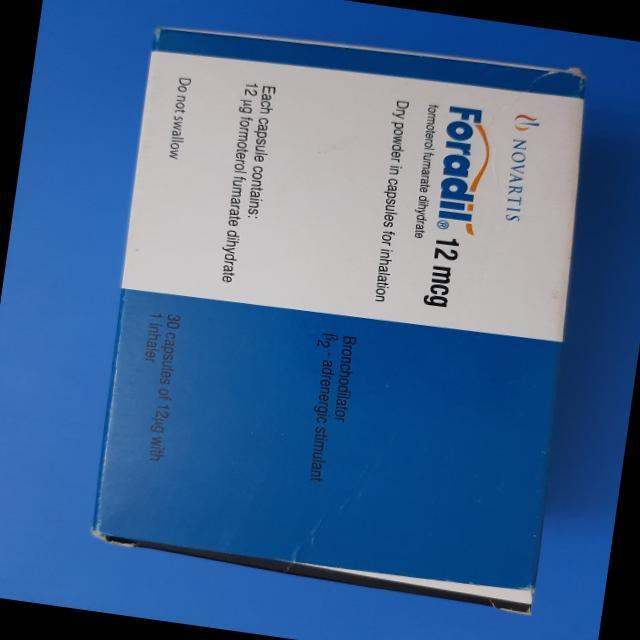Medicine Name: (425, 96, 494, 228)
